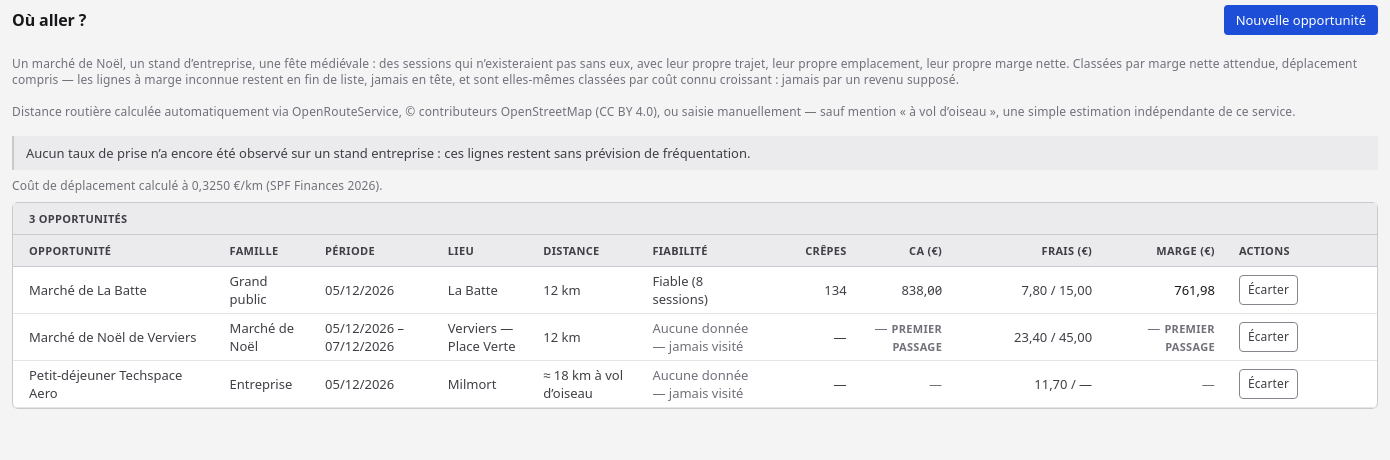
Test: Opportunités — écarter, créer, clavier › un rejet refusé le DIT, en registre d’erreur — jamais un succès muet
What coordinates should you click on to do the following:
click the button "Écarter" in the row of "Marché de Noël de Verviers"
I would click on:
 (1268, 337)
Its box is x1=1239 y1=322 x2=1298 y2=352.
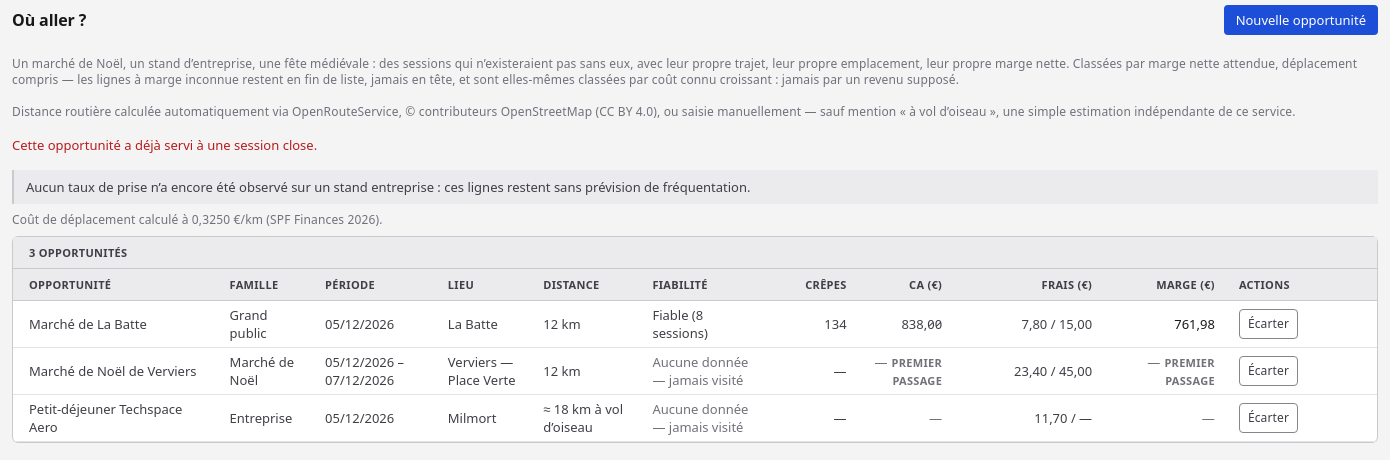
Now the message shows "déjà servi à une session close", box x1=12 y1=136 x2=317 y2=154
